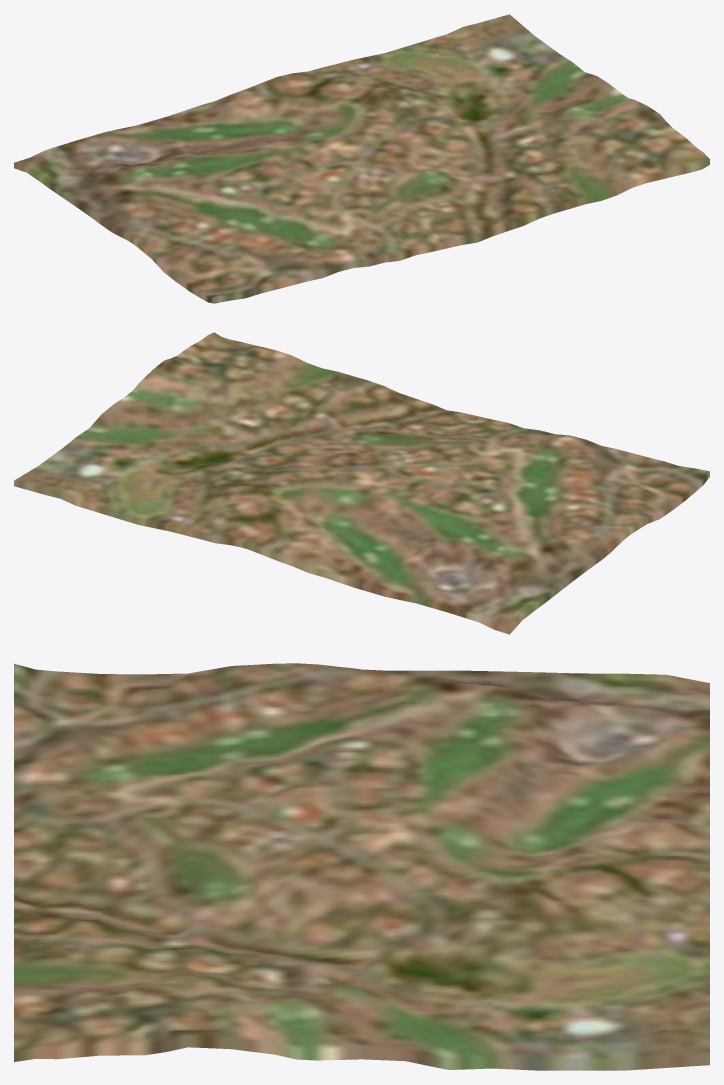
The model's file is terrain_r7_c1_lod2.glb.
The picture shows the model from 3 angles, top to bottom: view 1: azimuth 30°, elevation 25°; view 2: azimuth 150°, elevation 25°; view 3: azimuth 270°, elevation 25°; orthographic projection. The views are drawn at different scales.
Parts seen in each view (by area): view 1: terrain_r7_c1_lod2; view 2: terrain_r7_c1_lod2; view 3: terrain_r7_c1_lod2.
Part boxes in pixels (<box>): terrain_r7_c1_lod2: <box>14,14,709,303</box>; terrain_r7_c1_lod2: <box>14,332,709,634</box>; terrain_r7_c1_lod2: <box>14,663,709,1070</box>.
Size of the model in its own units: 1125 by 94.01 by 787.
1 material, 1 textured.
